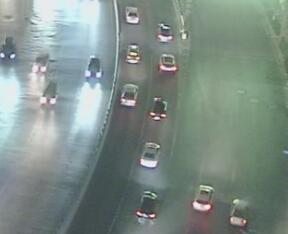car: (228, 199, 252, 228), (136, 192, 159, 220), (191, 183, 213, 211), (139, 140, 161, 168), (40, 80, 59, 105), (149, 97, 169, 120), (30, 50, 50, 73), (120, 82, 138, 106), (85, 56, 103, 79), (125, 41, 141, 64), (157, 53, 177, 71), (1, 37, 17, 59), (157, 22, 173, 43), (124, 5, 139, 23)
